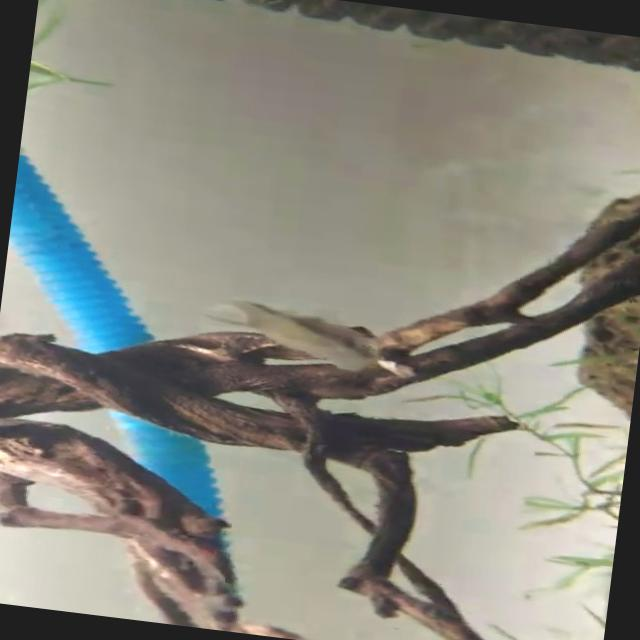Cakil Baligi: (200, 284, 398, 384)
